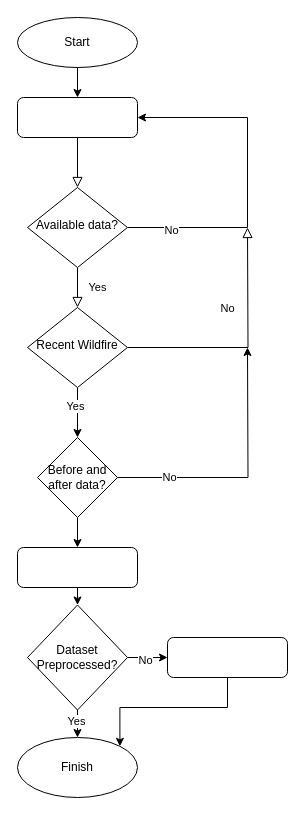
Some shapes in this 305 by 815 pixel diagram are drawn without their labels. Here are the shapes that lost their labels. From the top down, the box of each, then its label:
(16, 96, 138, 138): Select region
(16, 546, 138, 588): Combine dataset if not already
(166, 636, 288, 678): Pre-process Dataset
